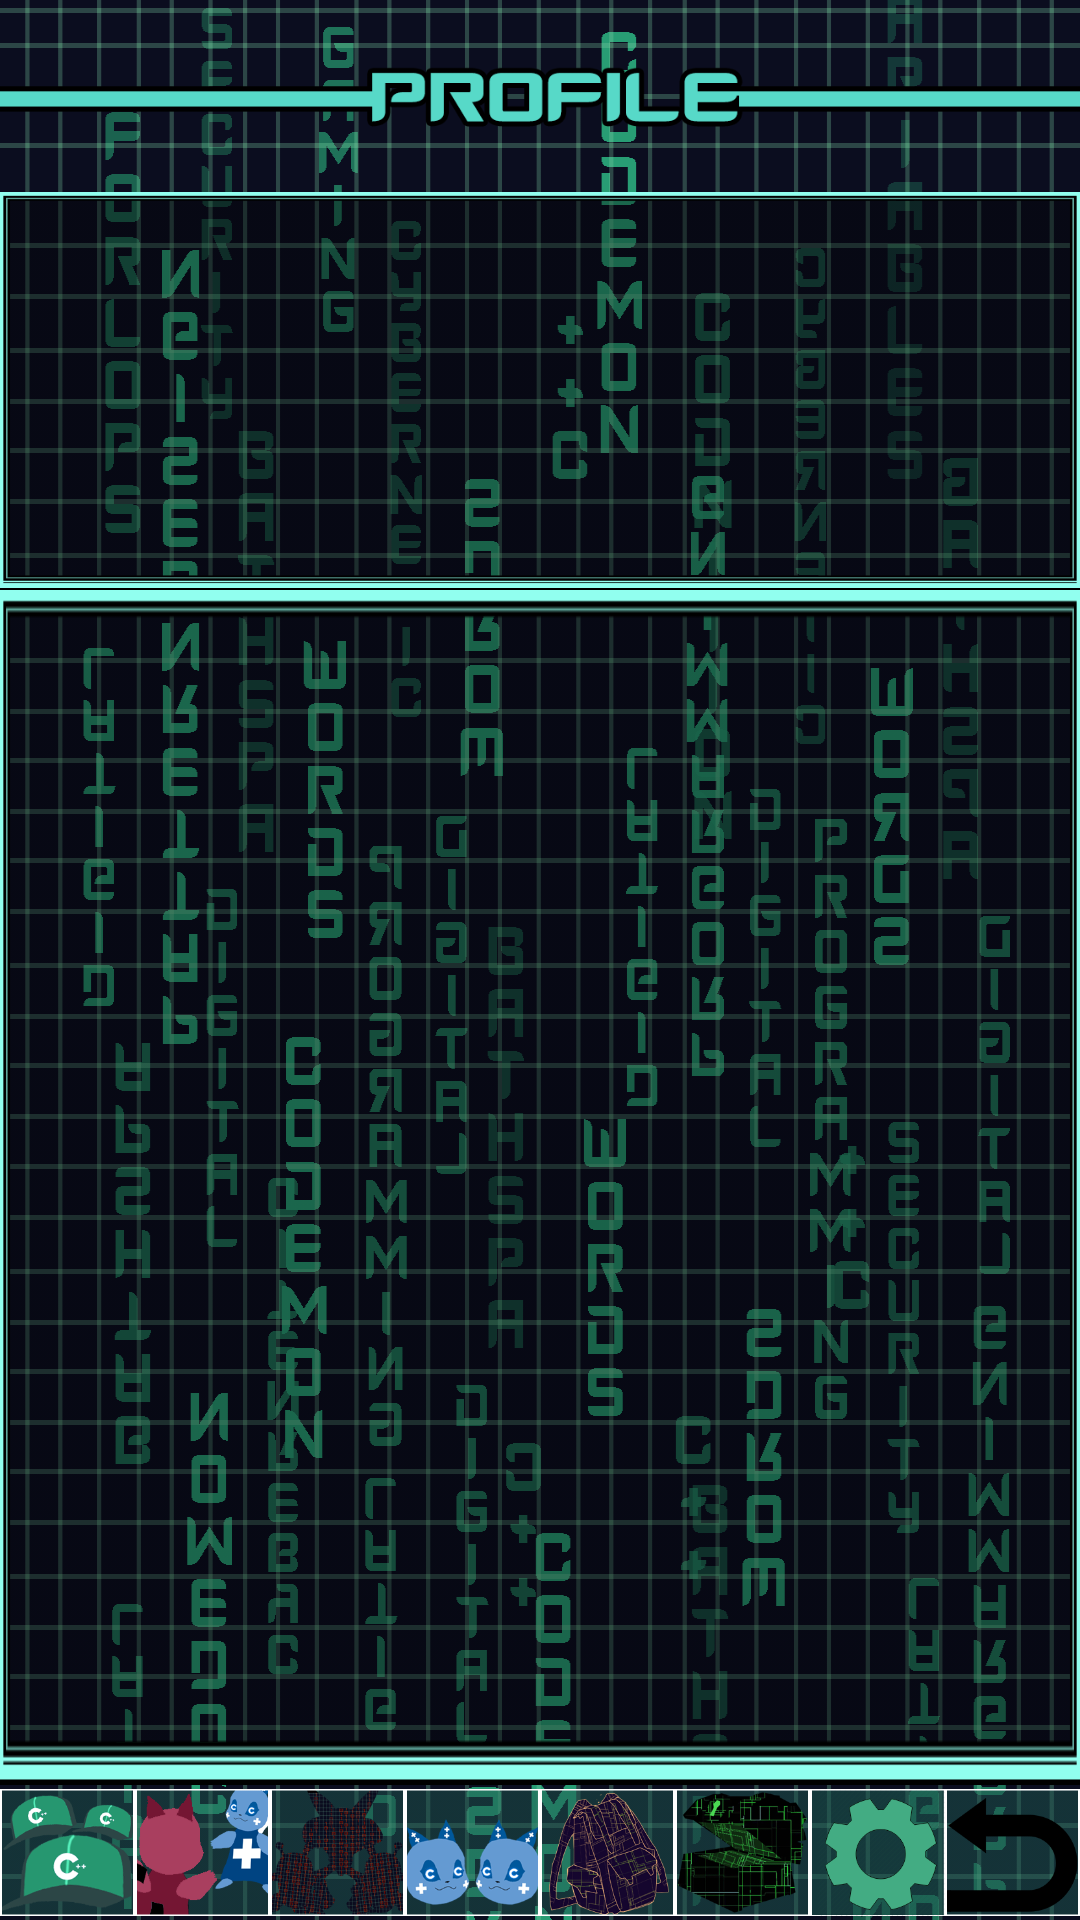

Icons on this 1080px x 1920px Android screen, each with the point to tap as [x,y]:
backbutton: [1012,1852]
friends: [472,1852]
itemsbutton: [607,1852]
settingsicon: [877,1852]
